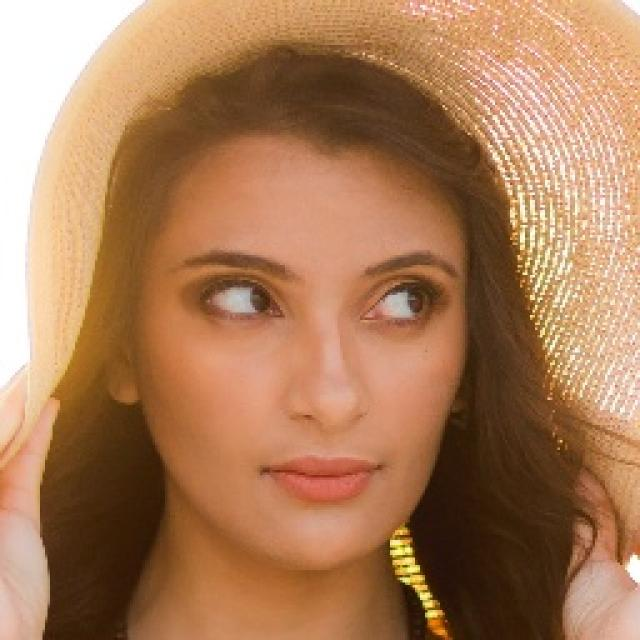earlobe: (103, 357, 141, 405)
eye: (201, 280, 284, 316), (366, 284, 434, 325)
nose: (291, 411, 370, 449)
